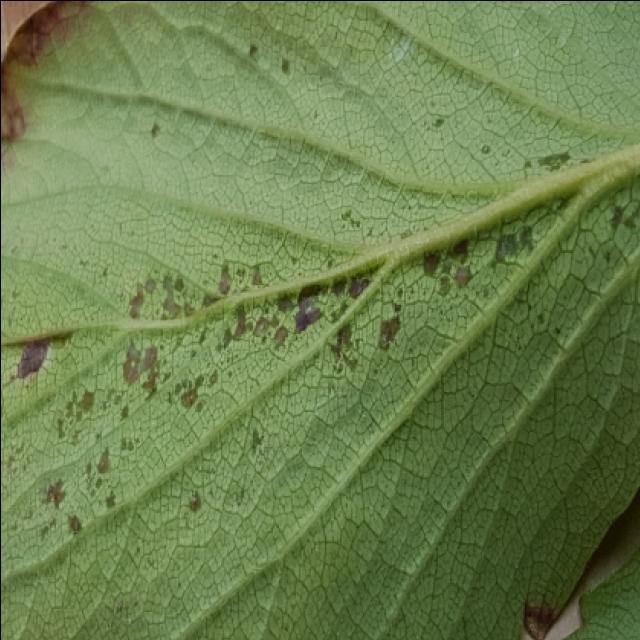Angular Leafspot: (0, 2, 638, 545)
